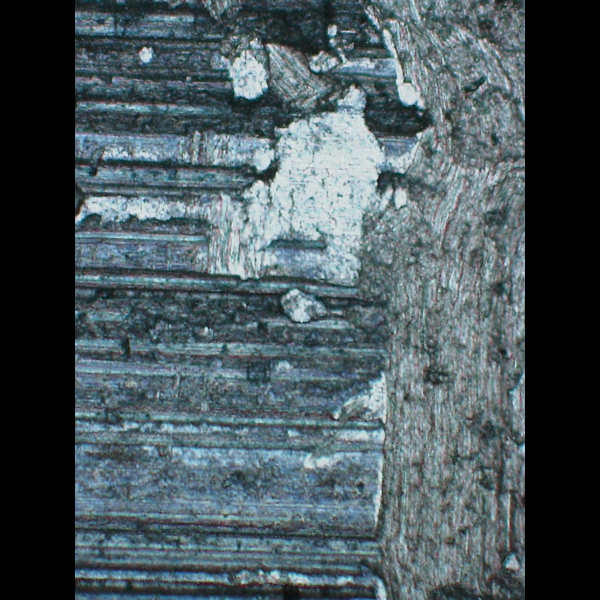d: (358, 0, 525, 597), (141, 0, 386, 343)
